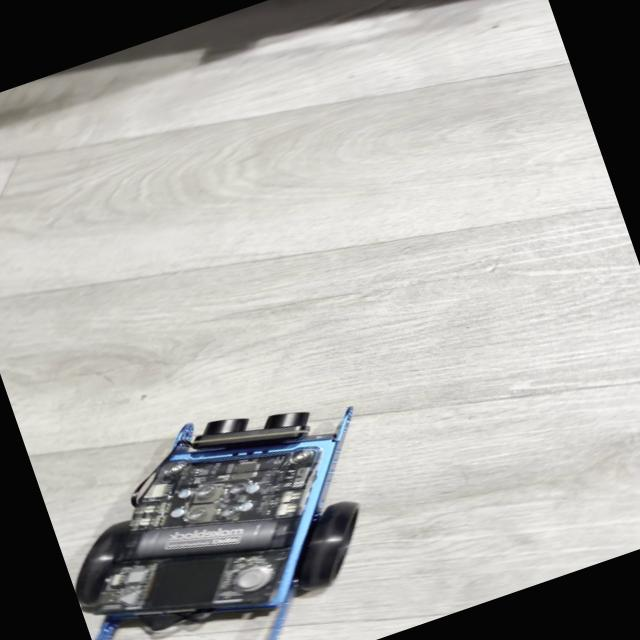mbot-detection: (33, 359, 440, 640)
